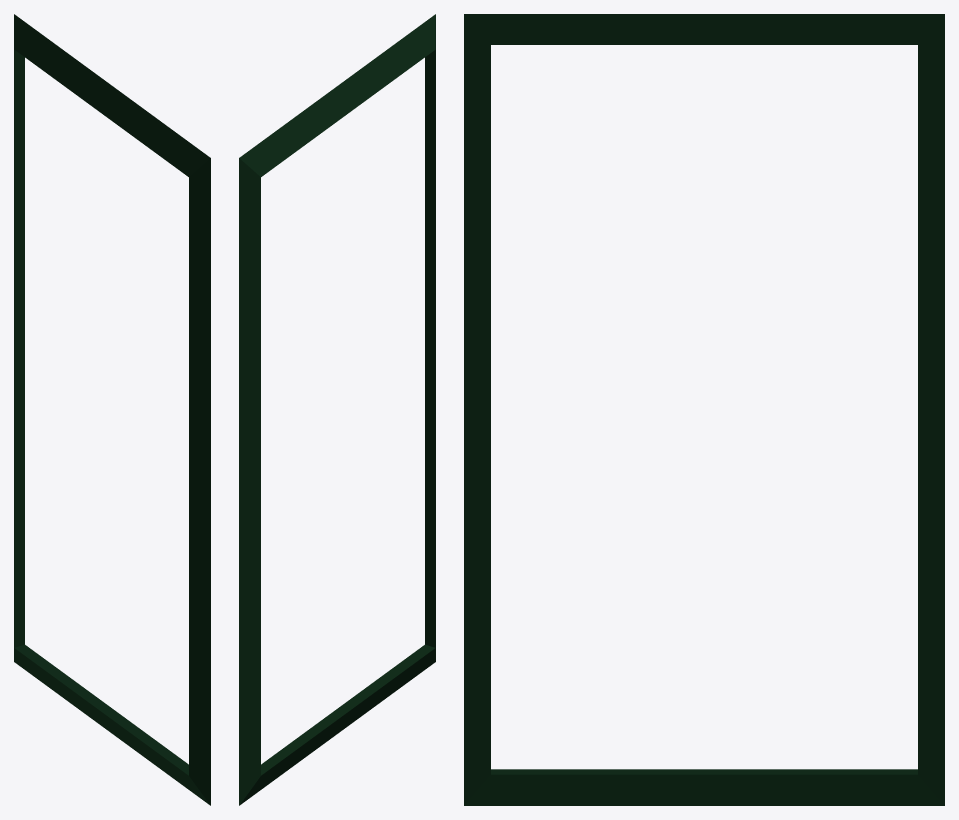
Rendered from cornice.glb.
The picture shows the model from 3 angles, left to right: view 1: azimuth 30°, elevation 25°; view 2: azimuth 150°, elevation 25°; view 3: azimuth 270°, elevation 25°; orthographic projection. The views are drawn at different scales.
Parts seen in each view (by area): view 1: Cube; view 2: Cube; view 3: Cube.
Boxes of the visible parts, x1,y1,x2,y2 form: Cube: [14, 14, 210, 805]; Cube: [239, 14, 435, 805]; Cube: [464, 14, 944, 805].
Bounding box in the file's own units: 0.1492 × 8.48 × 4.67.
